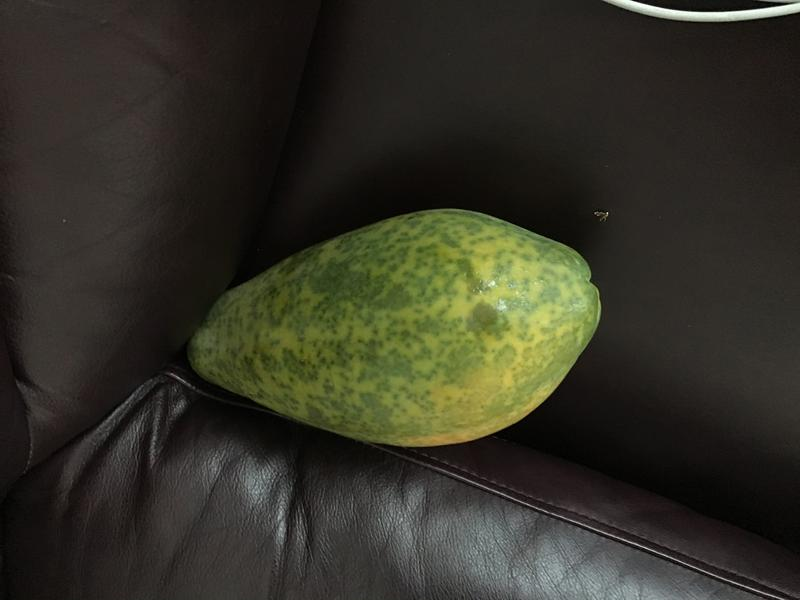papaya: (176, 198, 610, 468)
